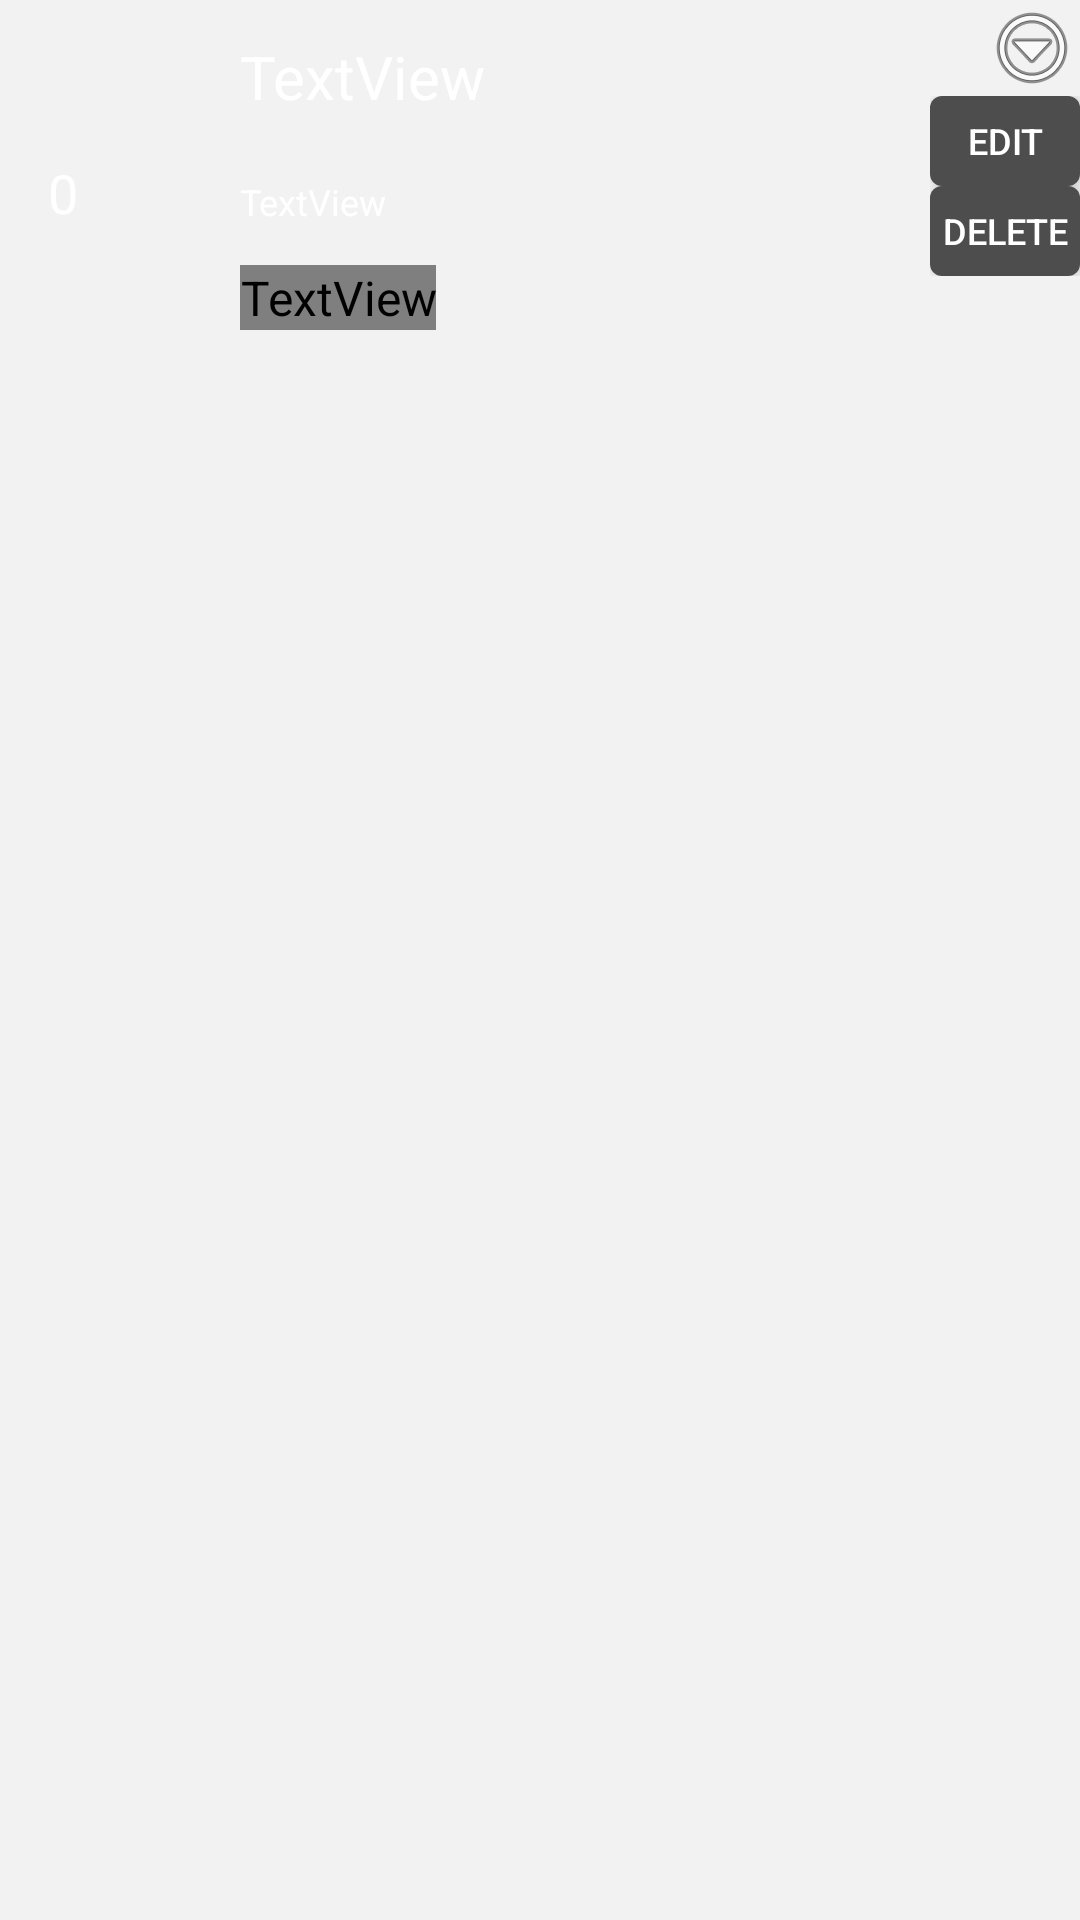

Screen size 1080px×1920px. Icon name, then its box in pixels as (x1, y1, x2, y2):
more: (996, 12, 1068, 84)
